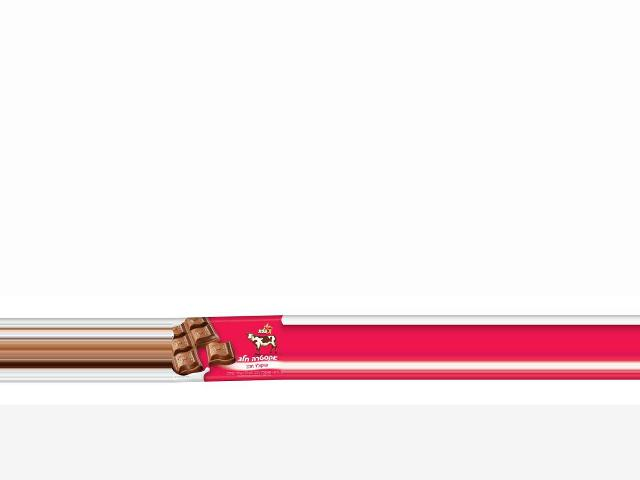chocolate: (173, 316, 284, 381)
